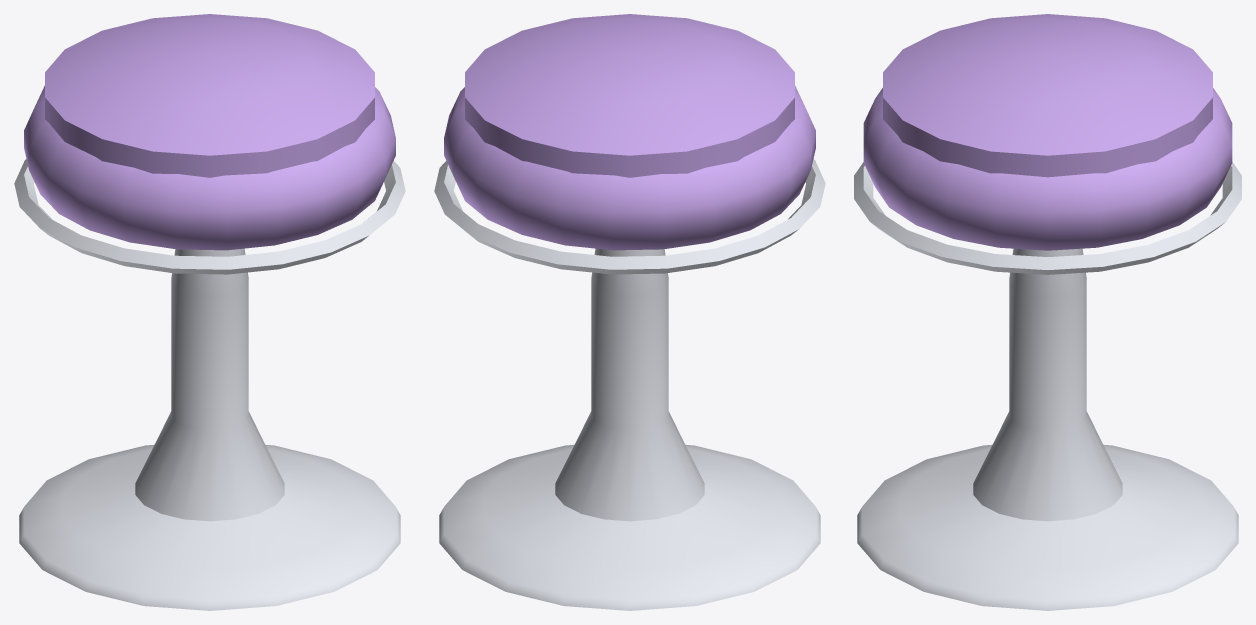
The model's file is stool_salon_round.glb.
3 renders of one model, left to right at view 1: azimuth 30°, elevation 25°; view 2: azimuth 150°, elevation 25°; view 3: azimuth 270°, elevation 25°, orthographic.
Visible parts, largest first — view 1: stool_salon_round; view 2: stool_salon_round; view 3: stool_salon_round.
Boxes of the visible parts, x1=… form: stool_salon_round: x1=14, y1=14, x2=405, y2=610; stool_salon_round: x1=434, y1=14, x2=825, y2=610; stool_salon_round: x1=854, y1=14, x2=1241, y2=610.
Size of the model in its own units: 0.4 by 0.54 by 0.3959.
